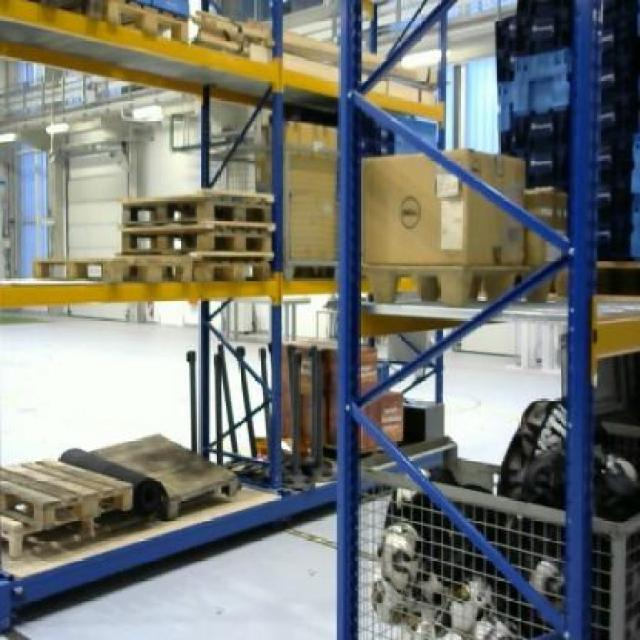box: (363, 148, 522, 264), (283, 120, 339, 260)
